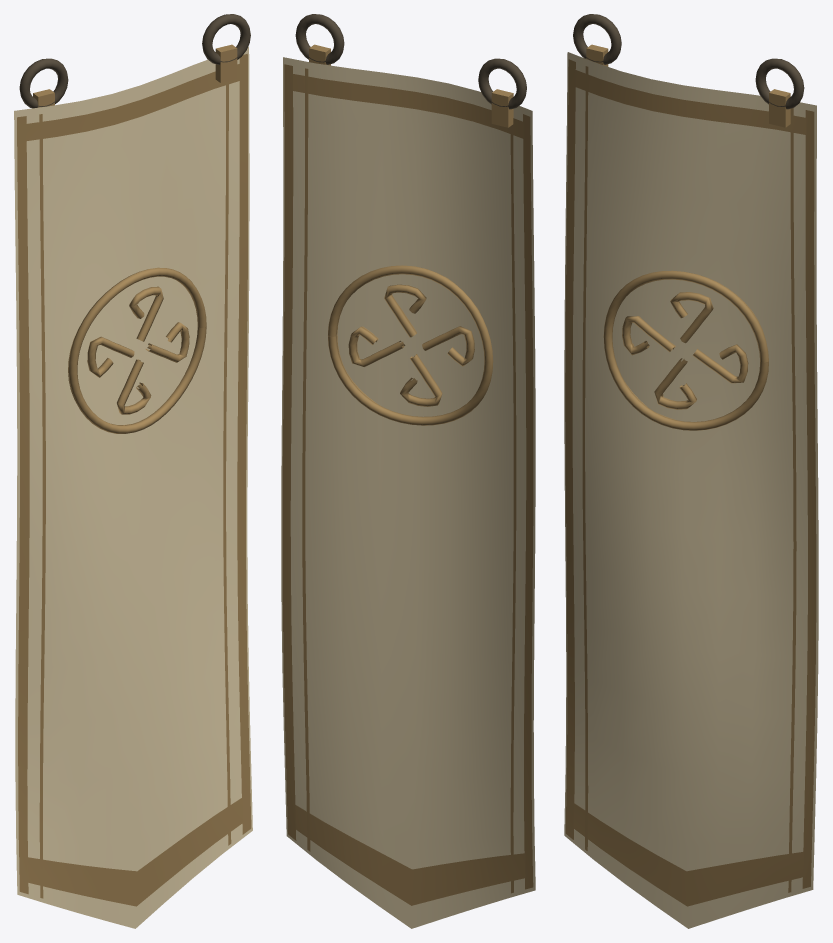
3 views of the same model, side by side, from view 1: azimuth 30°, elevation 25°; view 2: azimuth 150°, elevation 25°; view 3: azimuth 330°, elevation 25° (orthographic).
Visible parts, largest first — view 1: E05_silk, E05_motif, E05_bronze; view 2: E05_silk, E05_motif, E05_bronze; view 3: E05_silk, E05_motif, E05_bronze.
Boxes of the visible parts, x1,y1,x2,y2 form: E05_silk: (14, 46, 252, 928); E05_motif: (17, 44, 251, 906); E05_bronze: (19, 14, 250, 108); E05_silk: (281, 57, 535, 928); E05_motif: (282, 44, 533, 905); E05_bronze: (295, 14, 526, 109); E05_silk: (564, 52, 818, 928); E05_motif: (565, 44, 816, 906); E05_bronze: (573, 14, 804, 109).
Size of the model in its own units: 0.73 by 2.57 by 0.1142.
